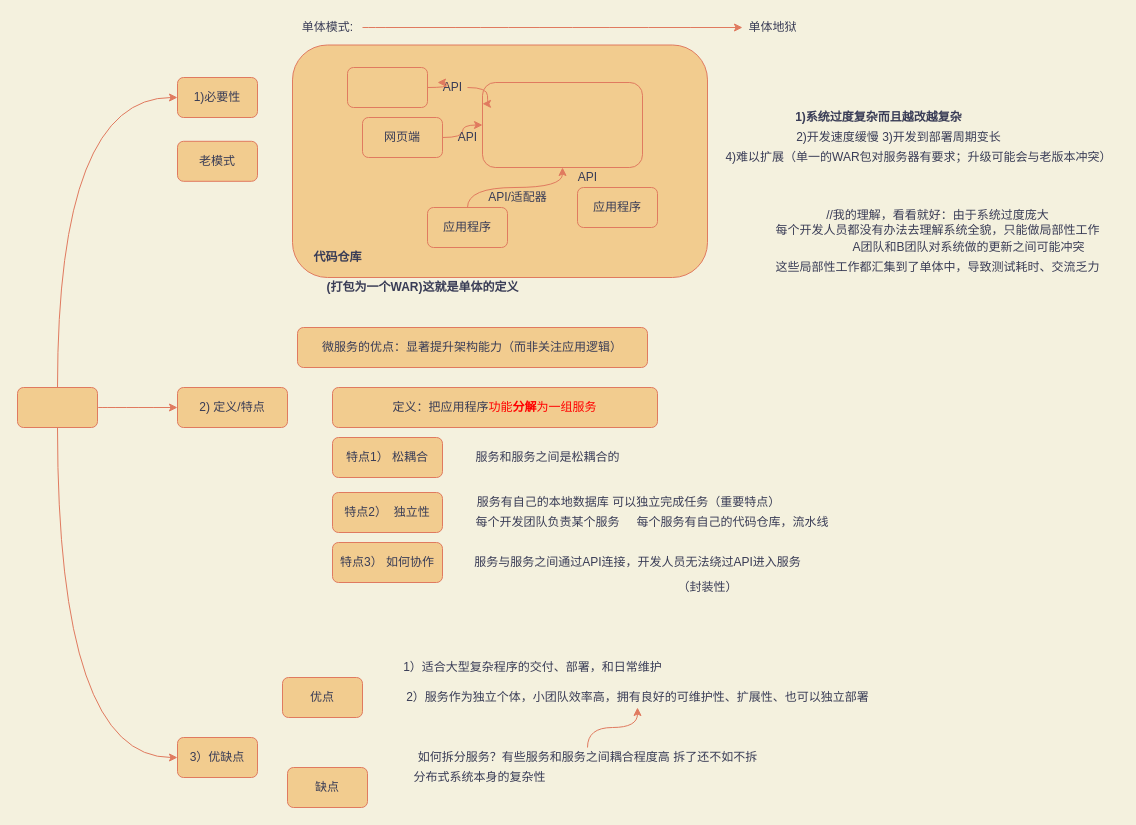
Some shapes in this 1136 by 825 pixel diagram are drawn without their labels. The centre of each missing label's shape, as x and y in pixels:
应用逻辑（中心）: (x=562, y=125)
微服务: (x=57, y=407)
数据库: (x=387, y=87)
